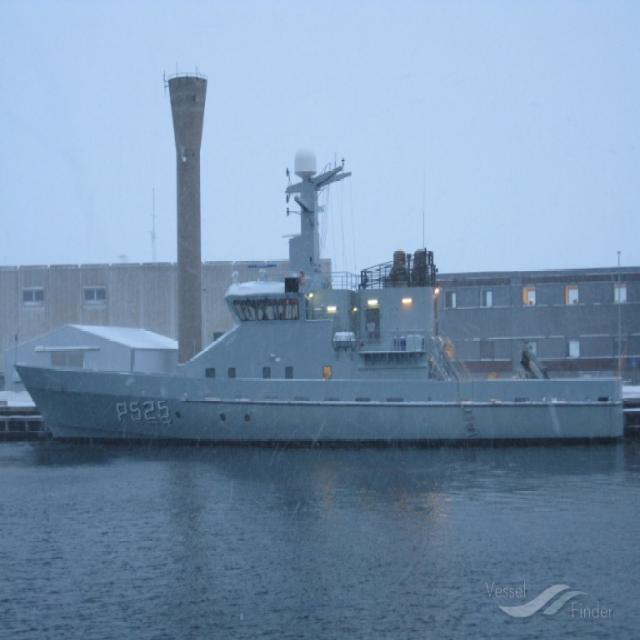OCR: (103, 401, 174, 427)
